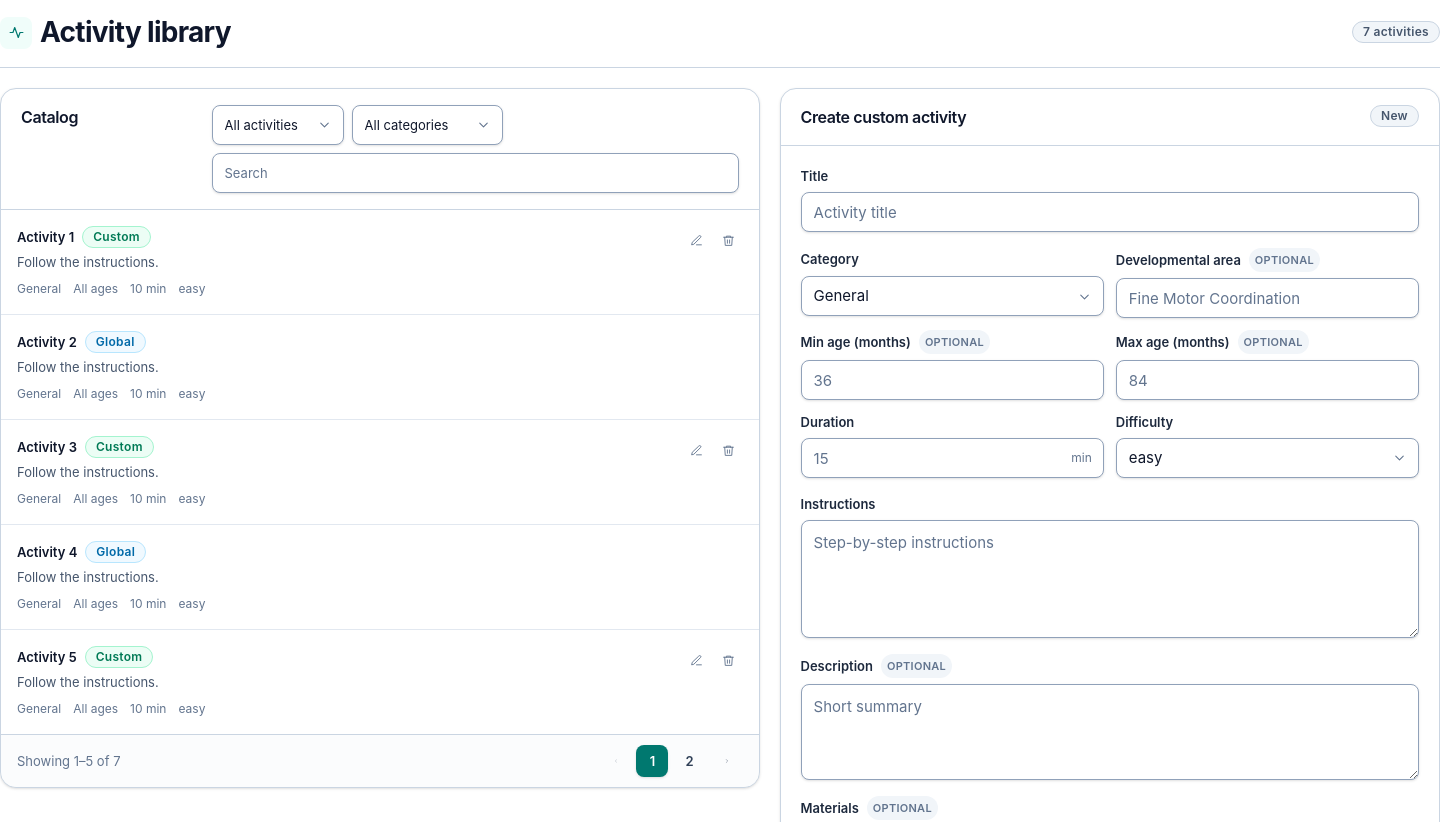
Test: activity catalog page › shows five activities per page with working pagination
Expected: the text "Showing 1–5 of 7" is shown, [17, 751, 120, 771]
Expected: the text "Activity 5" is shown, [17, 647, 77, 667]
Click the button named "Next page (Activities)": x=726, y=761 [710, 745, 742, 777]
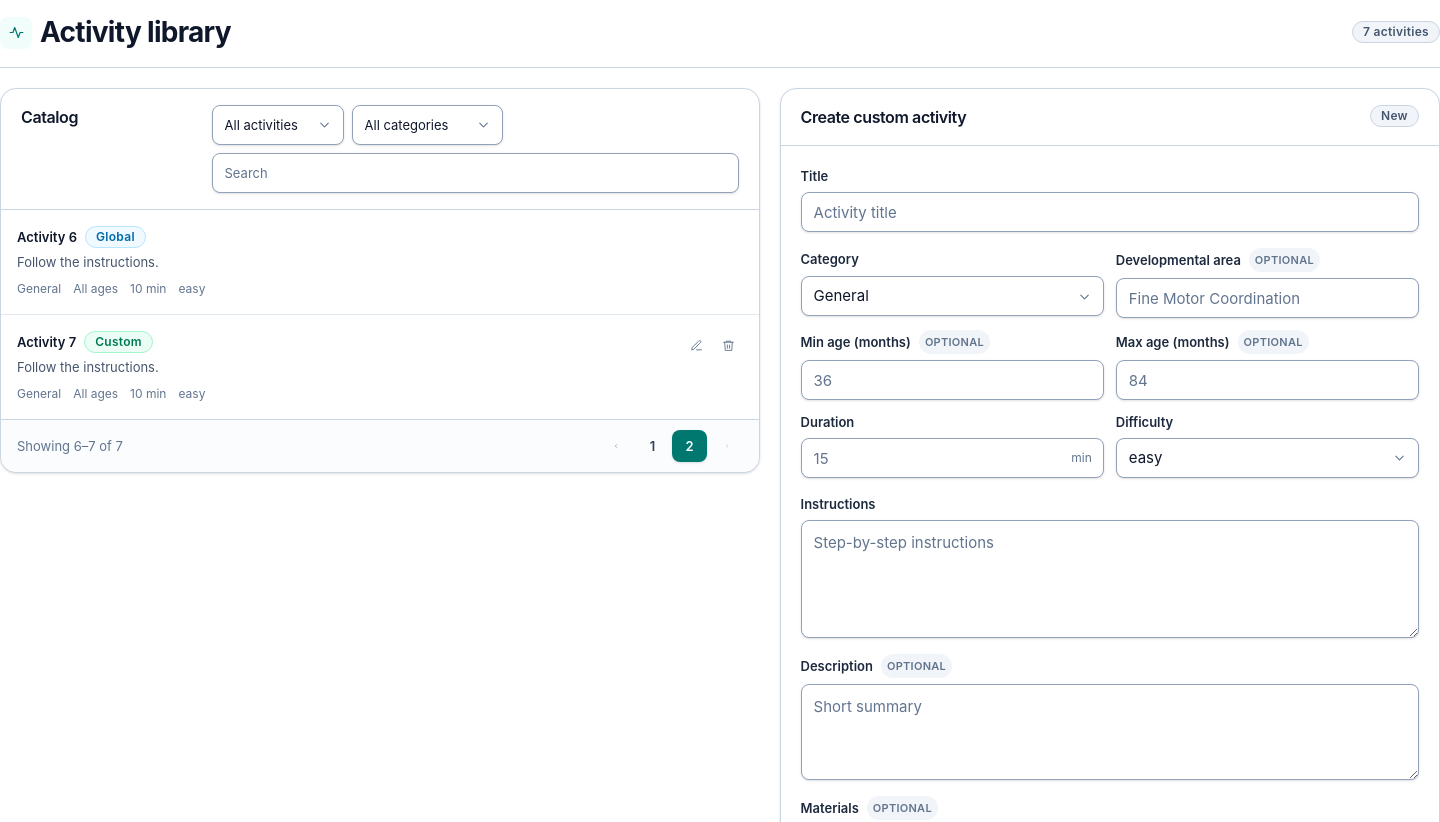
Expected: the text "Showing 6–7 of 7" is shown, [17, 436, 123, 456]
Expected: the text "Activity 7" is shown, [17, 332, 76, 352]
Expected: the text "Activity 1" is gone
